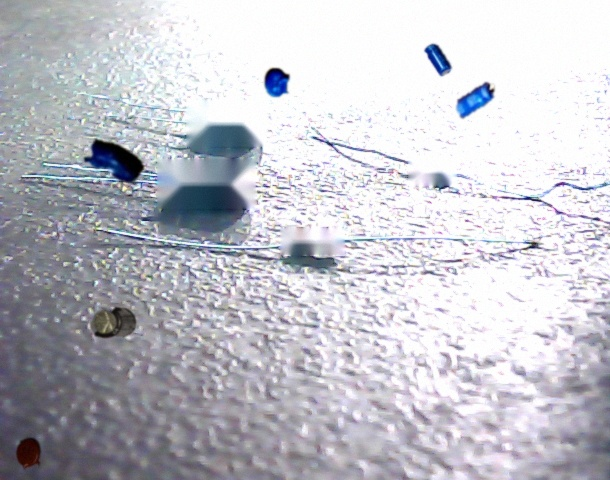capacitor: (84, 139, 144, 183), (90, 307, 137, 338), (456, 82, 494, 119), (424, 44, 452, 76), (16, 438, 41, 469), (265, 68, 289, 97)
